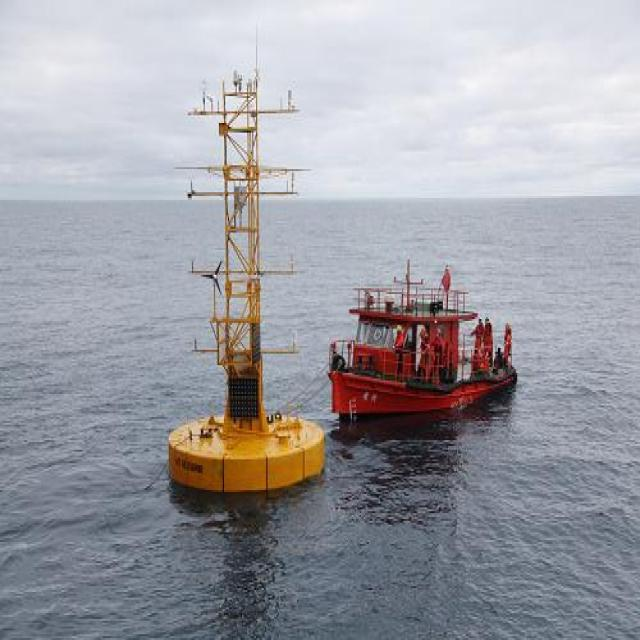buoy: (166, 52, 327, 492)
